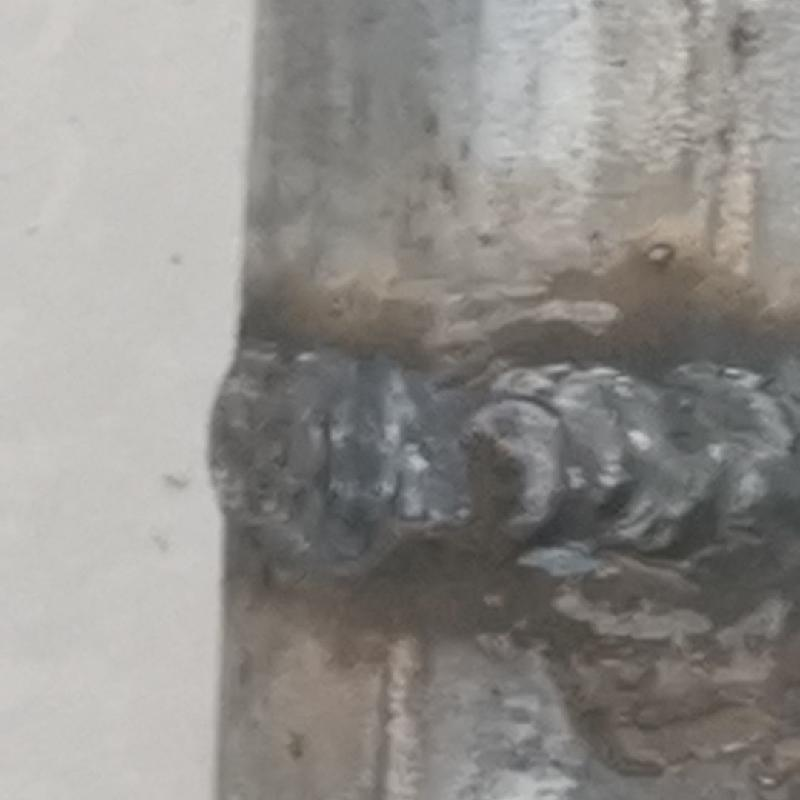good: (194, 308, 799, 565)
